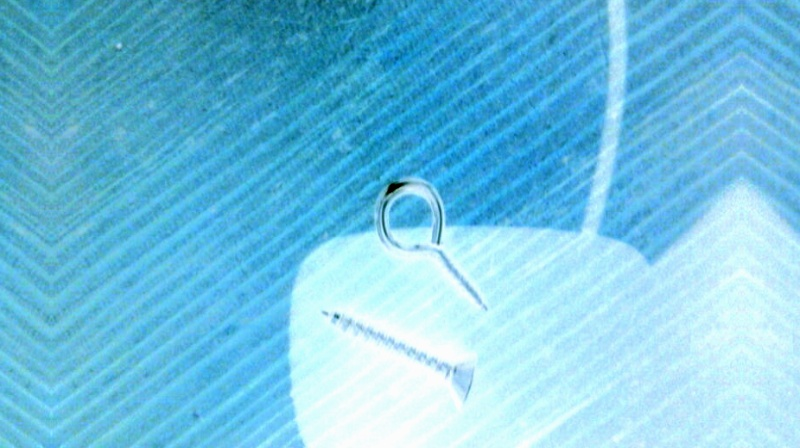O001: (375, 175, 490, 316)
S001: (319, 306, 479, 409)
